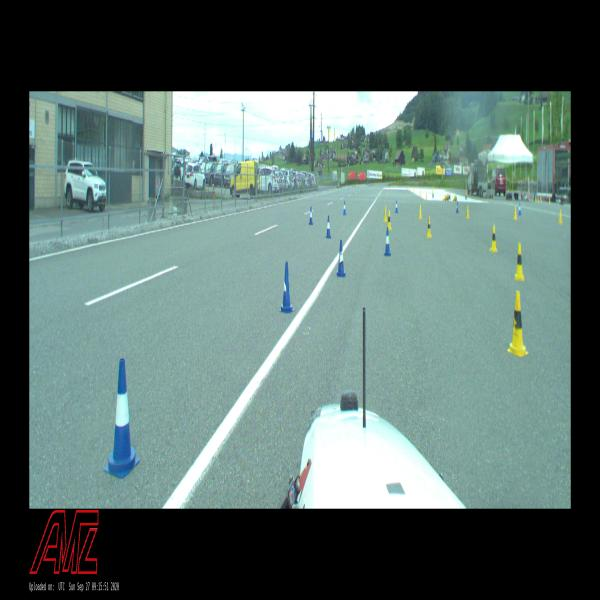blue_cone: (104, 359, 140, 477), (279, 262, 294, 313), (337, 240, 346, 277), (384, 228, 391, 256), (326, 216, 331, 238), (309, 207, 313, 224), (343, 201, 346, 215), (395, 200, 398, 213), (518, 204, 521, 215), (456, 202, 459, 212)
yellow_cone: (508, 292, 528, 356), (515, 244, 524, 280), (490, 226, 497, 251), (426, 216, 432, 238), (388, 210, 391, 229), (384, 206, 387, 222), (419, 205, 422, 219), (559, 209, 562, 223), (514, 206, 517, 219), (466, 205, 469, 218)
